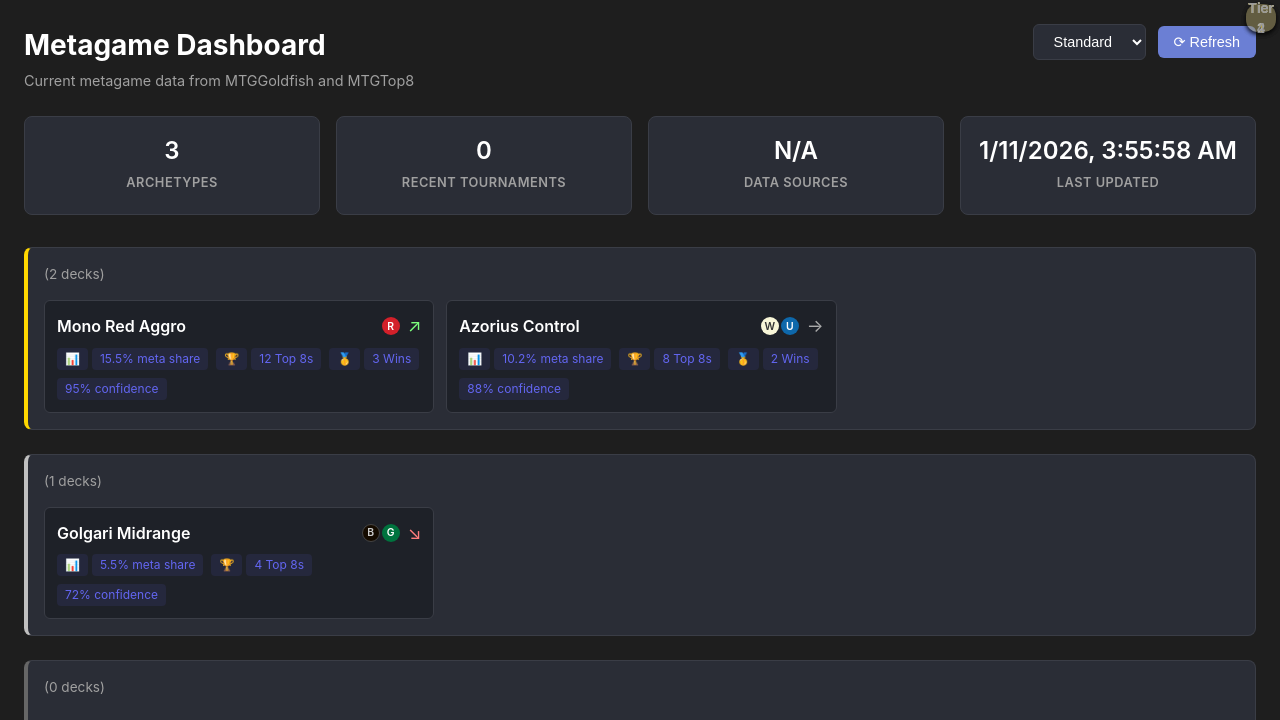
Meta › archetype detail view › opens detail panel when clicking on an archetype card
This screenshot has width=1280, height=720.
Expected: the text "Mono Red Aggro" is shown, [57, 316, 186, 336]
Click the button "Mono Red Aggro" at (239, 356), box [44, 300, 434, 413]
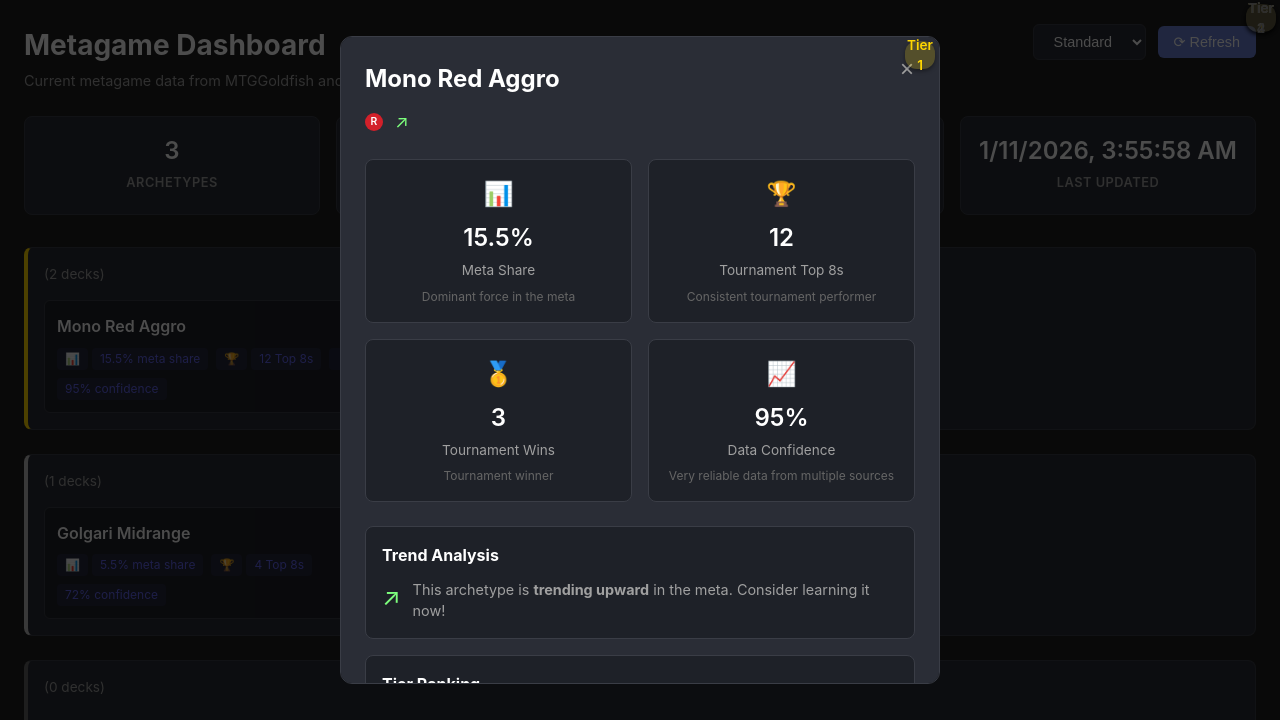
Now the heading "Mono Red Aggro" is shown, box [365, 64, 560, 93]
